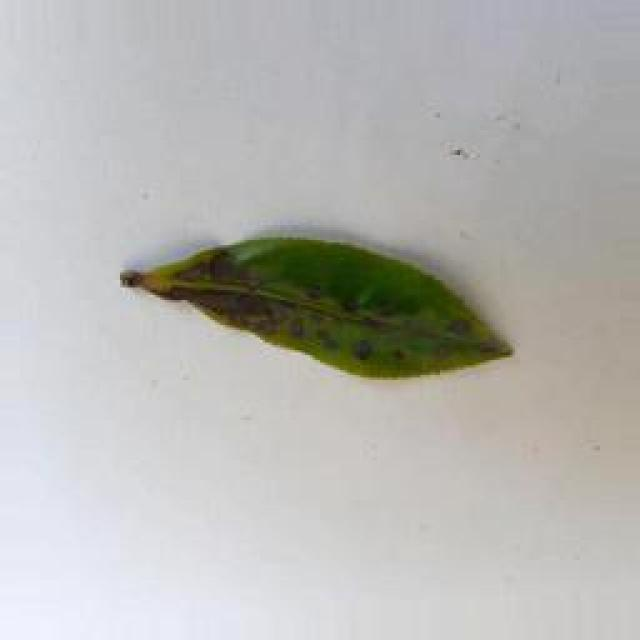Helopeltis: (120, 224, 517, 387)
